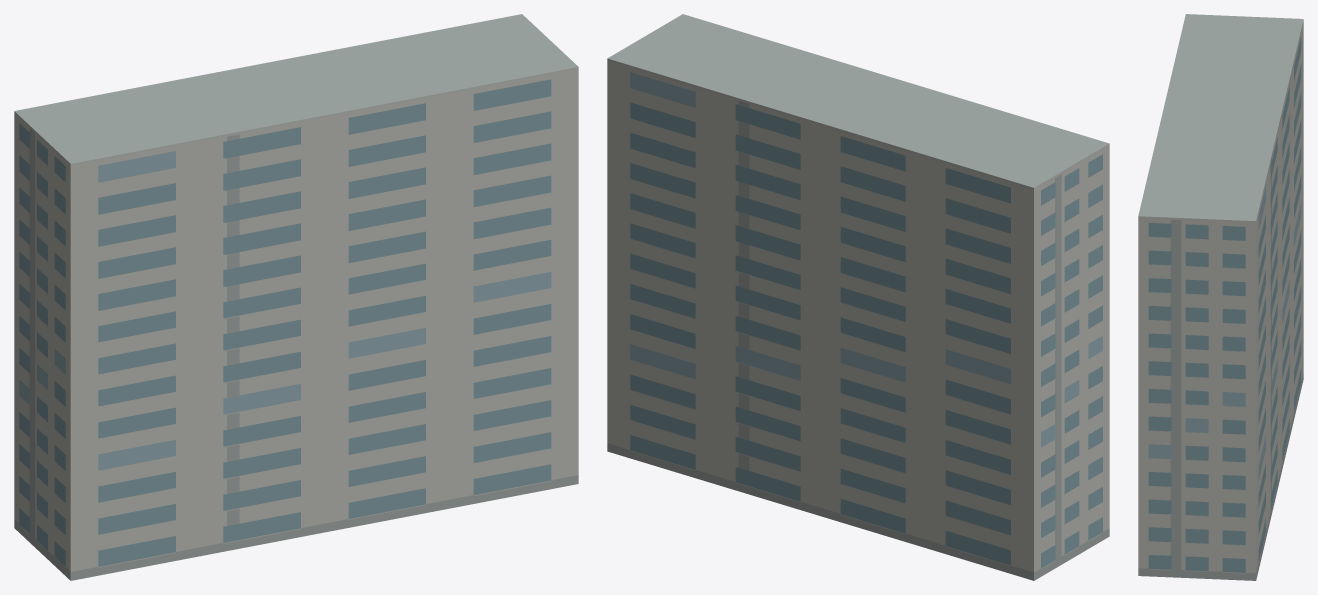
Rendered from residential-422caee6-cfed-4454-821f-efb765efa422.glb.
3 views of the same model, side by side, from view 1: azimuth 30°, elevation 25°; view 2: azimuth 150°, elevation 25°; view 3: azimuth 270°, elevation 25° (orthographic). The views are drawn at different scales.
Visible parts, largest first — view 1: residential-422caee6-cfed-4454-821f-efb765efa422.tmp; view 2: residential-422caee6-cfed-4454-821f-efb765efa422.tmp; view 3: residential-422caee6-cfed-4454-821f-efb765efa422.tmp.
Boxes of the visible parts, x1=… form: residential-422caee6-cfed-4454-821f-efb765efa422.tmp: x1=14, y1=14, x2=578, y2=580; residential-422caee6-cfed-4454-821f-efb765efa422.tmp: x1=607, y1=14, x2=1109, y2=580; residential-422caee6-cfed-4454-821f-efb765efa422.tmp: x1=1138, y1=14, x2=1303, y2=580.
Size of the model in its own units: 48.98 by 39.65 by 16.54.
